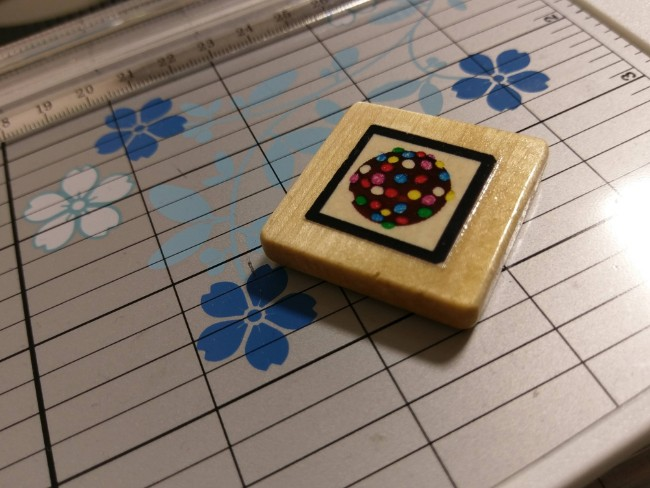cookie: (281, 119, 526, 286)
